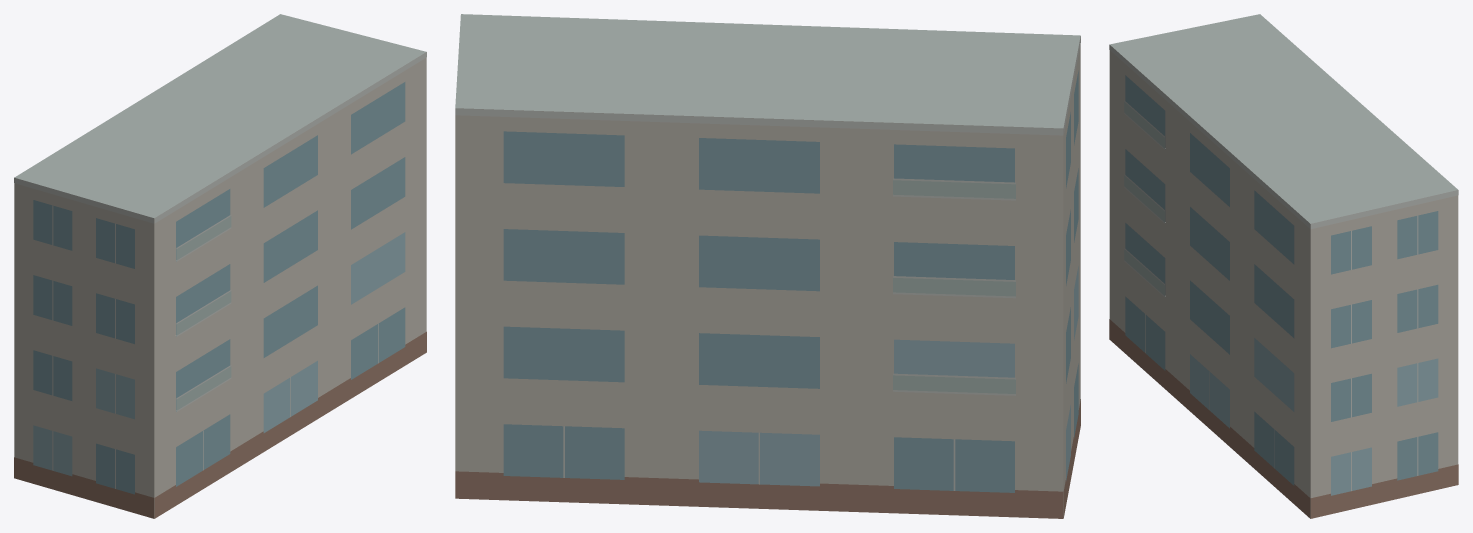
The model's file is survey-upis-32754877.glb.
The picture shows the model from 3 angles, left to right: view 1: azimuth 30°, elevation 25°; view 2: azimuth 150°, elevation 25°; view 3: azimuth 270°, elevation 25°; orthographic projection. The views are drawn at different scales.
Parts seen in each view (by area): view 1: survey-upis-32754877.tmp; view 2: survey-upis-32754877.tmp; view 3: survey-upis-32754877.tmp.
Part boxes in pixels (box(x1,y1,x2,y2)): survey-upis-32754877.tmp: box(14, 14, 426, 518); survey-upis-32754877.tmp: box(455, 14, 1080, 518); survey-upis-32754877.tmp: box(1109, 14, 1458, 518).
Bounding box in the file's own units: 20.3 × 13.3 × 14.27.
